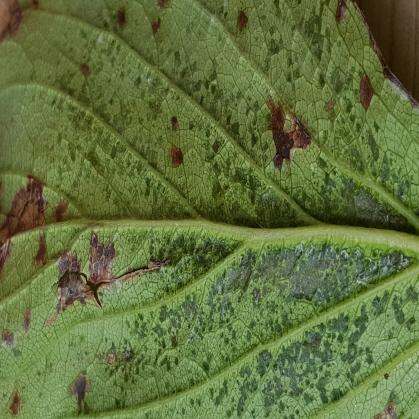Angular Leafspot: (0, 0, 418, 418)
